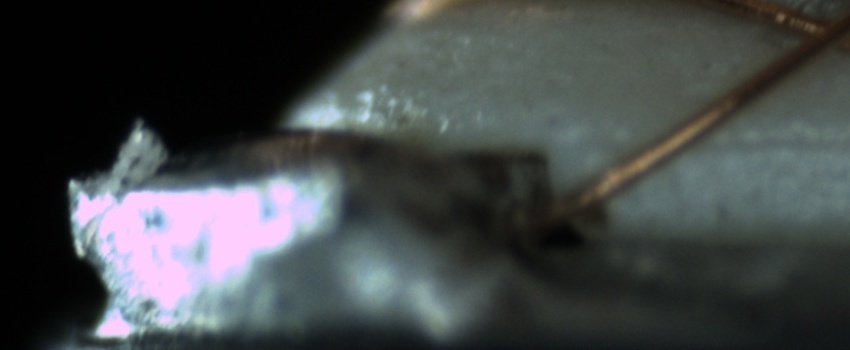CL: (774, 3, 847, 65)
DL: (681, 108, 848, 176)
